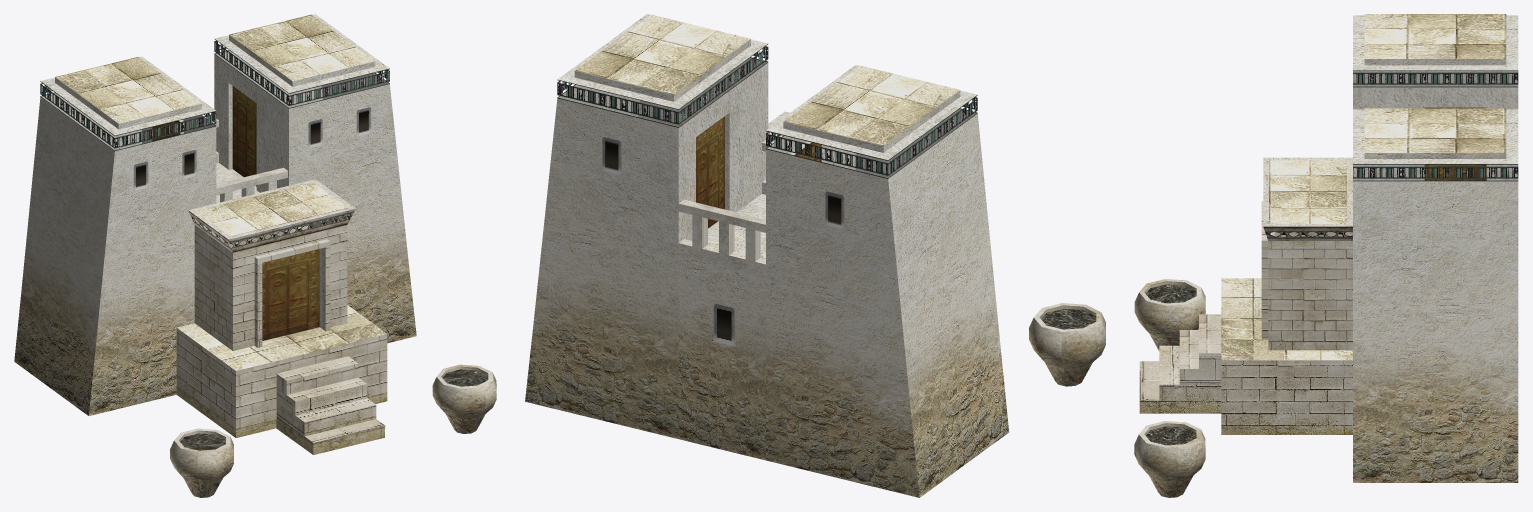
Rendered from kart_tophet.dae.
3 views of the same model, side by side, from view 1: azimuth 30°, elevation 25°; view 2: azimuth 150°, elevation 25°; view 3: azimuth 270°, elevation 25° (orthographic). The views are drawn at different scales.
Parts seen in each view (by area): view 1: Civic_Centre001; view 2: Civic_Centre001; view 3: Civic_Centre001.
Part boxes in pixels (x1,y1,x2,y2): Civic_Centre001: (14, 14, 496, 497); Civic_Centre001: (525, 14, 1105, 497); Civic_Centre001: (1134, 14, 1518, 497).
Size of the model in its own units: 19.65 by 17.46 by 17.97.
